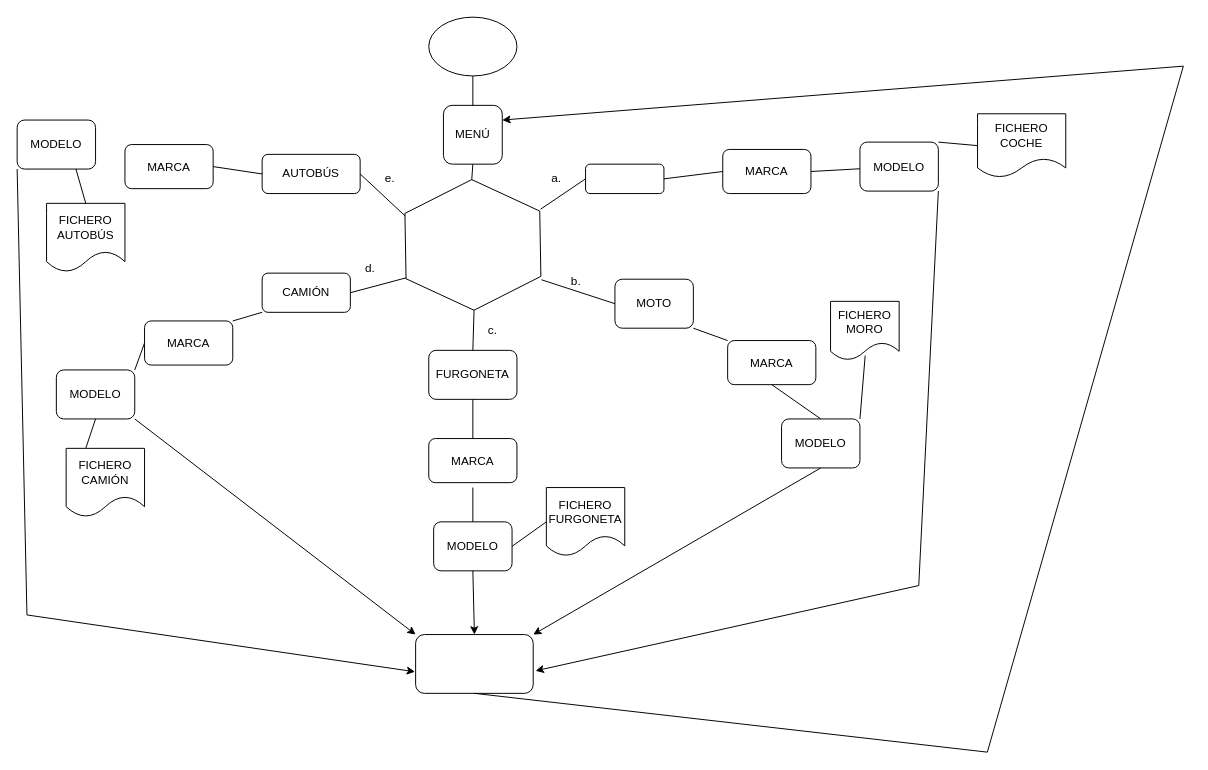
Some shapes in this 1208 by 770 pixel diagram are drawn without their labels. Each missing label, with the centre of its shape:
COCHE: point (624, 178)
INICIO: point (472, 46)
SELECCIONAR EL TIPO DE VEHICULO: point (472, 244)
¿DESEA BUSCAR OTRO VEHÍCULO ?: point (474, 663)
